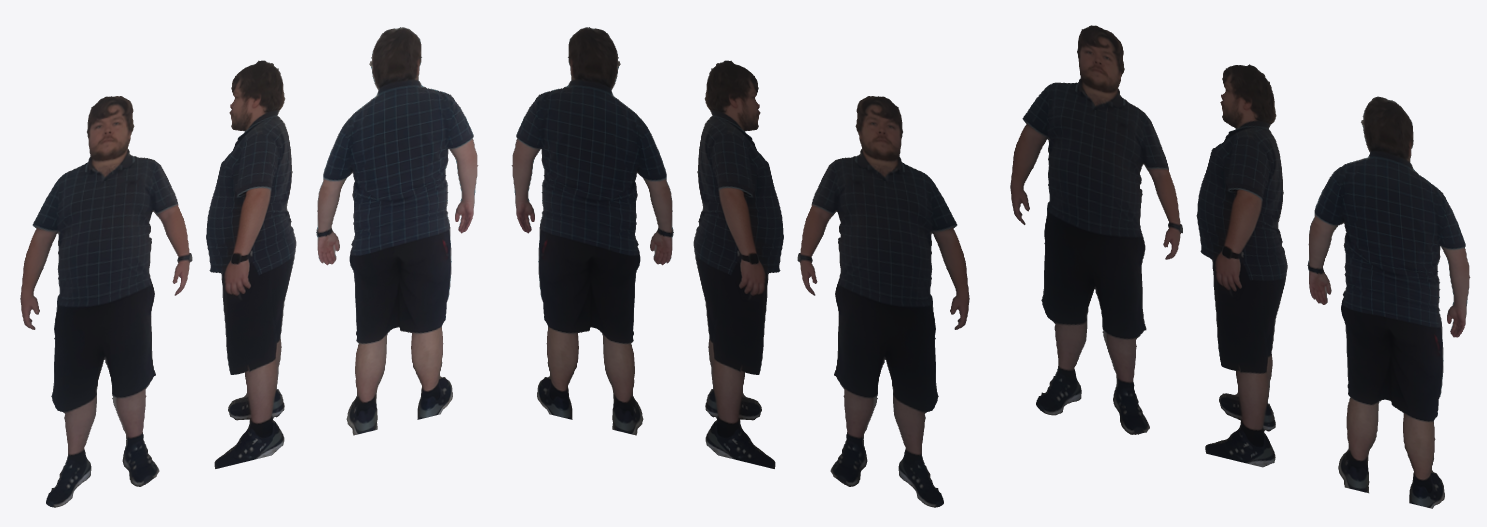
Rendered from human.glb.
3 renders of one model, left to right at view 1: azimuth 30°, elevation 25°; view 2: azimuth 150°, elevation 25°; view 3: azimuth 330°, elevation 25°, orthographic.
Visible parts, largest first — view 1: HumanRef_Back_Color, HumanRef_Front_Color, HumanRef_Side_Color; view 2: HumanRef_Back_Color, HumanRef_Front_Color, HumanRef_Side_Color; view 3: HumanRef_Back_Color, HumanRef_Front_Color, HumanRef_Side_Color.
Part boxes in pixels (x1,y1,x2,y2): HumanRef_Back_Color: [316, 27, 478, 435]; HumanRef_Front_Color: [20, 96, 192, 507]; HumanRef_Side_Color: [206, 60, 296, 468]; HumanRef_Back_Color: [511, 27, 673, 435]; HumanRef_Front_Color: [797, 96, 969, 507]; HumanRef_Side_Color: [693, 60, 783, 468]; HumanRef_Back_Color: [1307, 96, 1470, 508]; HumanRef_Front_Color: [1010, 25, 1182, 434]; HumanRef_Side_Color: [1196, 64, 1287, 467].
Size of the model in its own units: 2.13 by 1.75 by 0.
3 materials, 3 textured.
